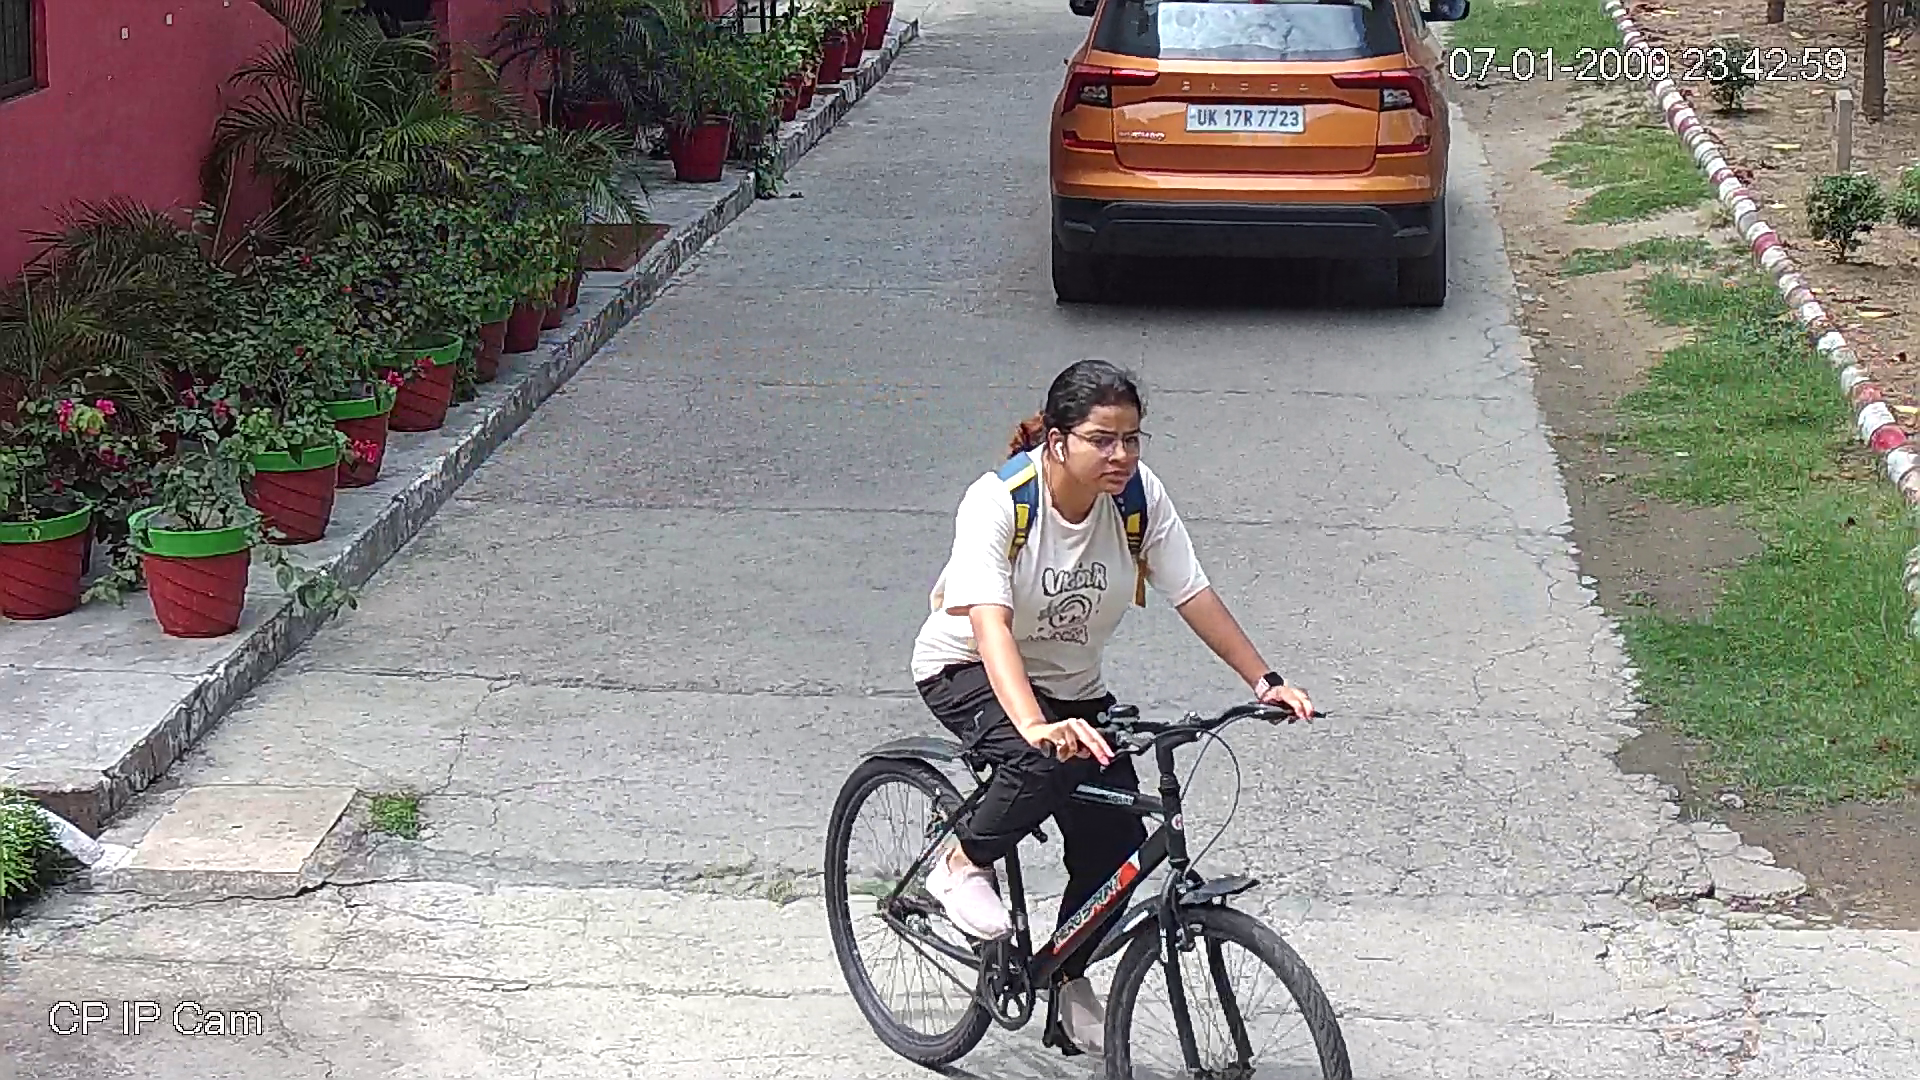plate: (1181, 99, 1314, 134)
